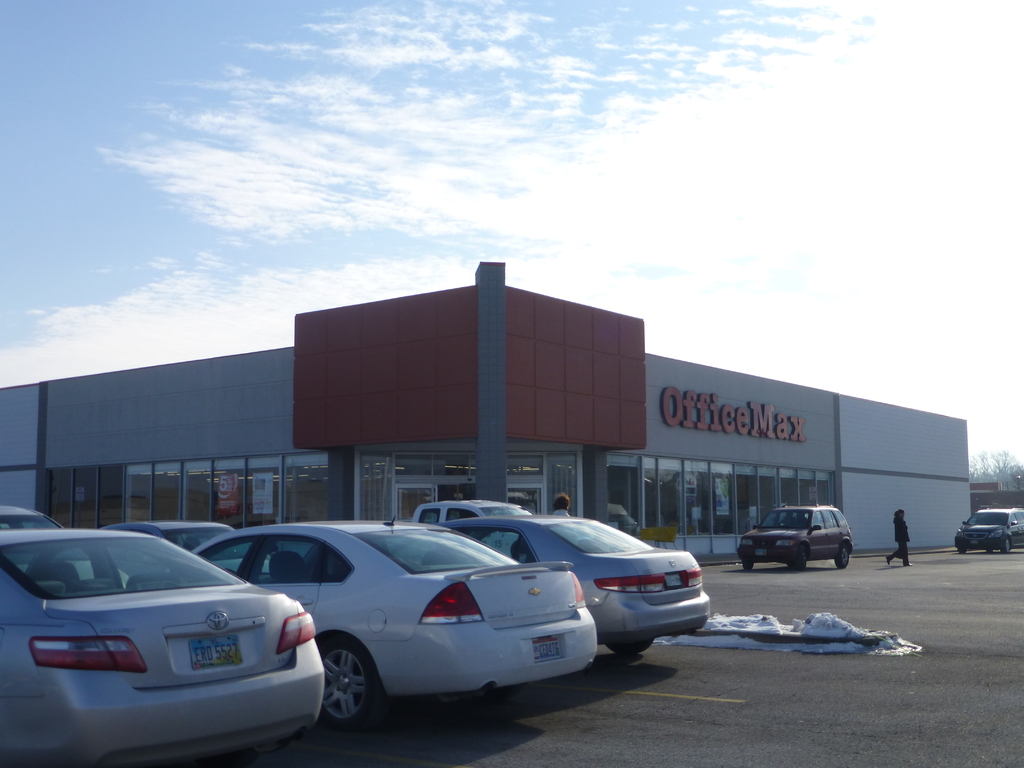Car: (188, 513, 606, 734), (0, 519, 336, 761), (445, 507, 709, 650), (0, 499, 130, 585), (101, 520, 277, 576), (737, 502, 852, 564), (952, 503, 1023, 552)
